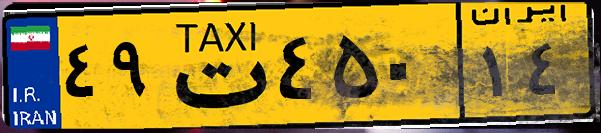0: (385, 28, 445, 110)
1: (475, 38, 525, 113)
4: (270, 28, 330, 110), (57, 26, 110, 100), (525, 38, 570, 115)
5: (330, 28, 385, 110)
9: (110, 28, 158, 98)
ت: (158, 12, 270, 120)
